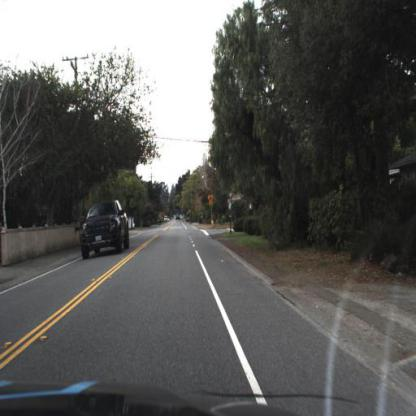car: (75, 191, 134, 262)
